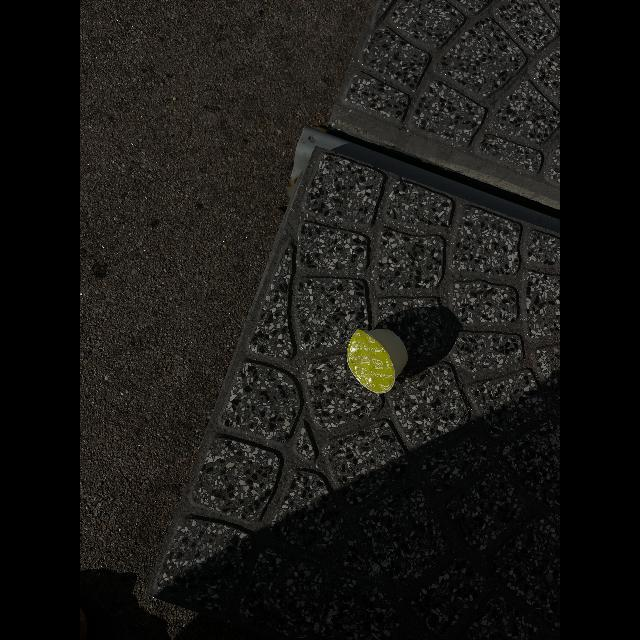damaged_capsule: (340, 324, 410, 396)
